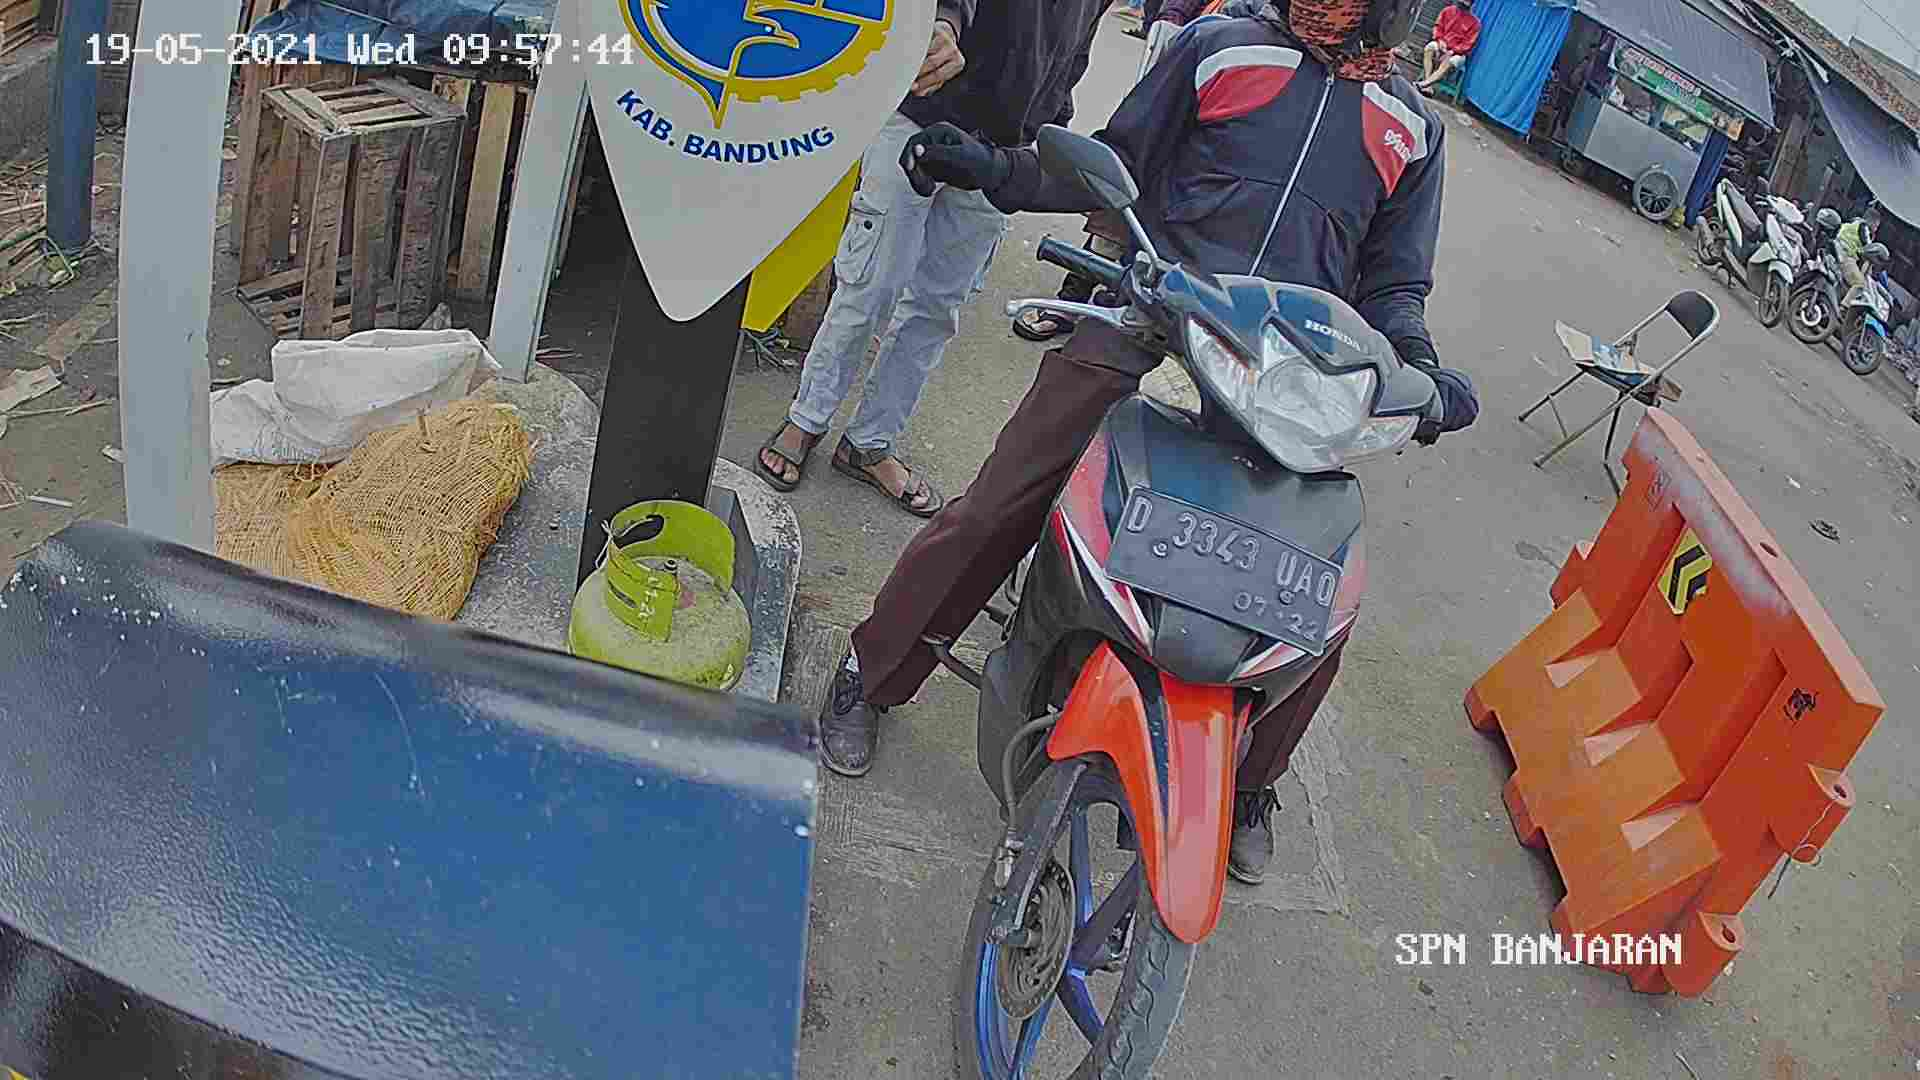motor: (989, 243, 1403, 1080)
